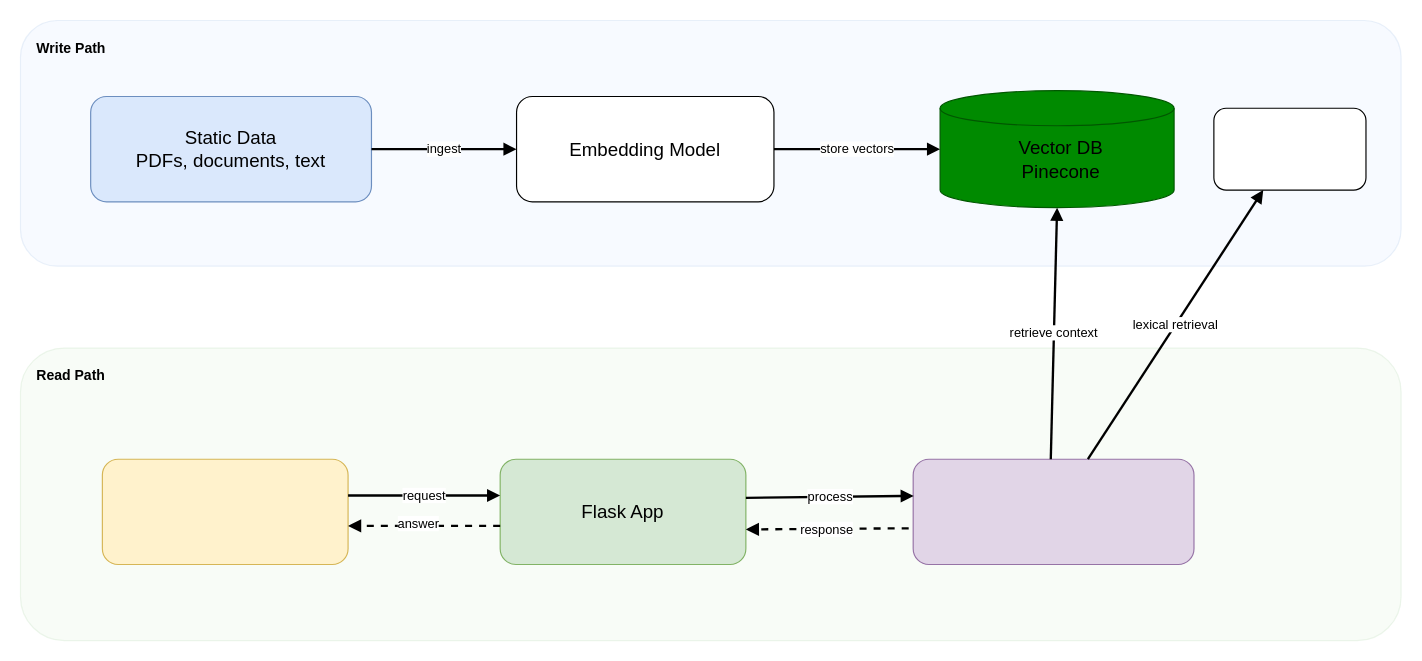
This 1422x661 diagram has some shape labels left out. The shapes that lost their labels are listed below. From the top down, each one's box as (x1, y1, x2, y2) in pixels, then its label:
(1213, 107, 1366, 190): Local BM25 Index
(101, 458, 348, 565): User Query
(912, 458, 1194, 565): LLM / Retrieval Layer
